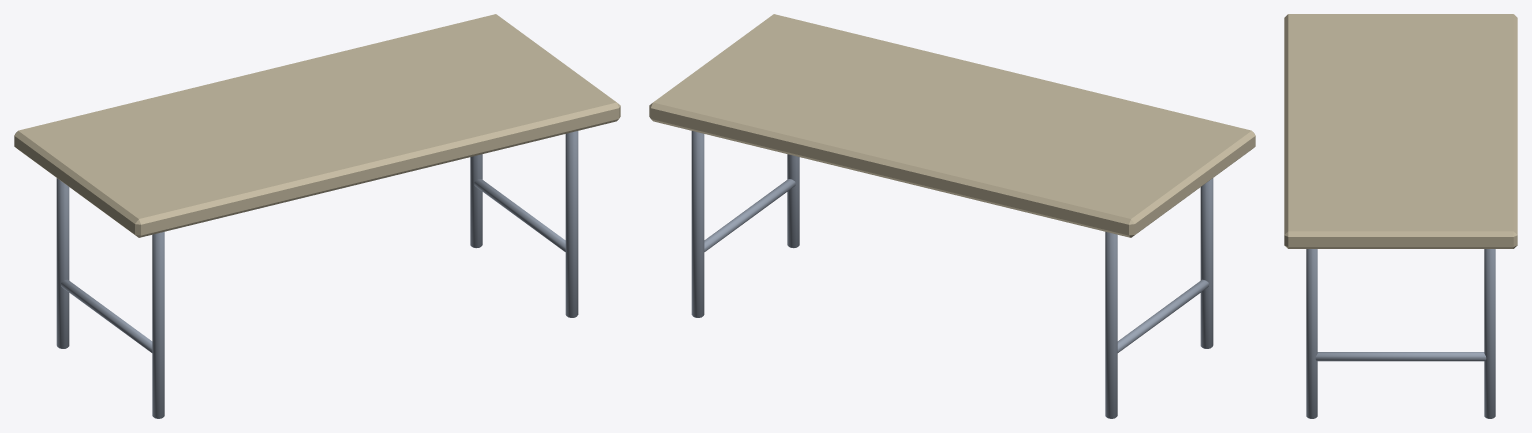
Rendered from prop_folding_table.obj.
The picture shows the model from 3 angles, left to right: view 1: azimuth 30°, elevation 25°; view 2: azimuth 150°, elevation 25°; view 3: azimuth 270°, elevation 25°; orthographic projection. The views are drawn at different scales.
Visible parts, largest first — view 1: Top, LegB_1.3, LegB_-0.3, LegF_-0.3, Cross_-0.3, Cross_1.3, LegF_1.3; view 2: Top, LegF_1.3, LegF_-0.3, LegB_-0.3, Cross_-0.3, Cross_1.3, LegB_1.3; view 3: Top, LegF_1.3, LegB_1.3, Cross_1.3.
Boxes of the visible parts, x1,y1,x2,y2 form: Top: [14, 14, 620, 237]; LegB_1.3: [565, 131, 578, 317]; LegB_-0.3: [152, 232, 164, 418]; LegF_-0.3: [56, 178, 69, 348]; Cross_-0.3: [61, 279, 152, 352]; Cross_1.3: [474, 179, 565, 251]; LegF_1.3: [470, 154, 482, 248]; Top: [649, 14, 1255, 237]; LegF_1.3: [691, 131, 704, 317]; LegF_-0.3: [1105, 232, 1117, 418]; LegB_-0.3: [1200, 178, 1213, 348]; Cross_-0.3: [1117, 279, 1208, 352]; Cross_1.3: [704, 179, 795, 251]; LegB_1.3: [787, 154, 799, 248]; Top: [1284, 14, 1517, 248]; LegF_1.3: [1484, 249, 1495, 418]; LegB_1.3: [1306, 249, 1317, 418]; Cross_1.3: [1315, 352, 1486, 361].
Size of the model in its own units: 1.88 by 0.795 by 0.84.
